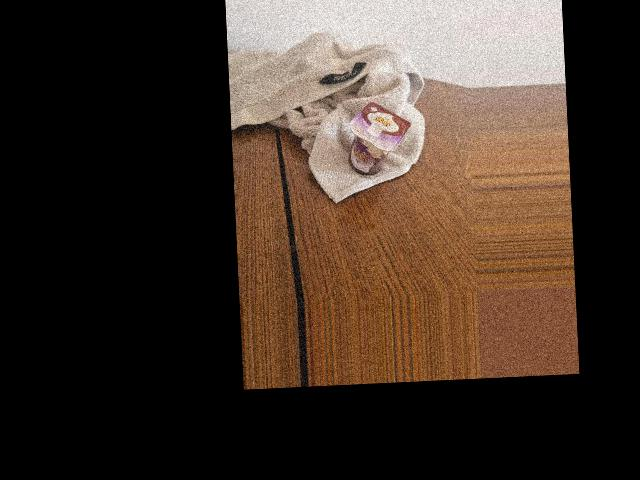milky: (348, 99, 411, 177)
